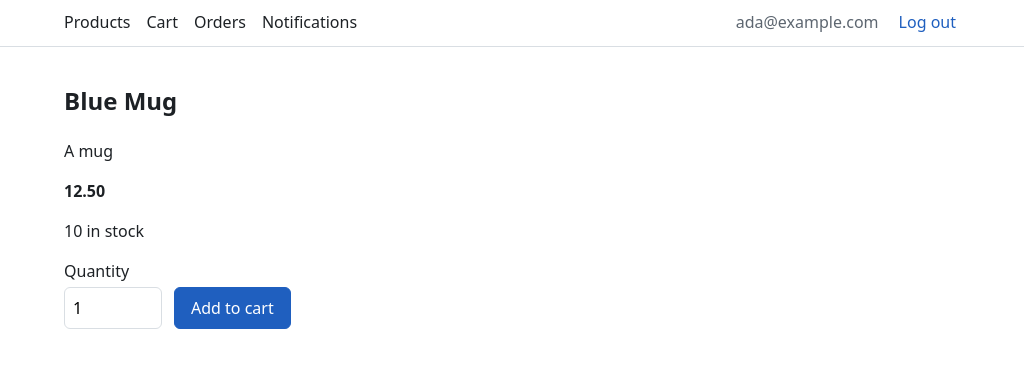
Test case: checkout › names the product that ran out of stock
Replace the text in the number field labelled "Quantity" with "2" at (113, 308), box [64,287,162,329]
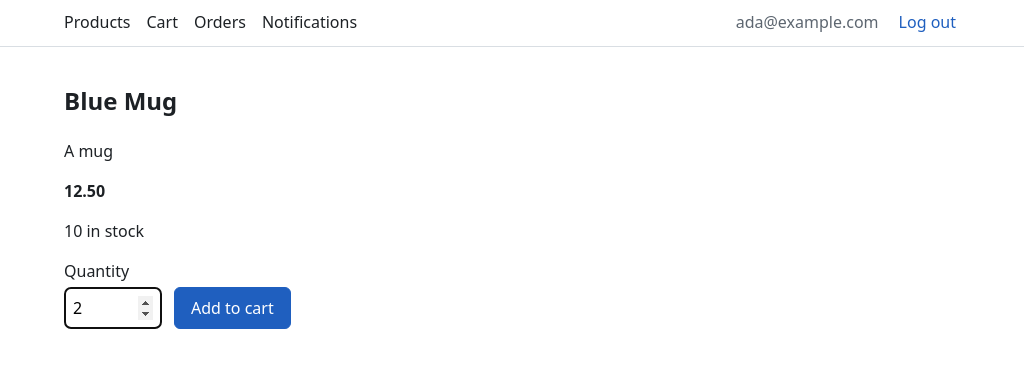
Click the button "Add to cart" at (232, 308), box [174,287,291,329]
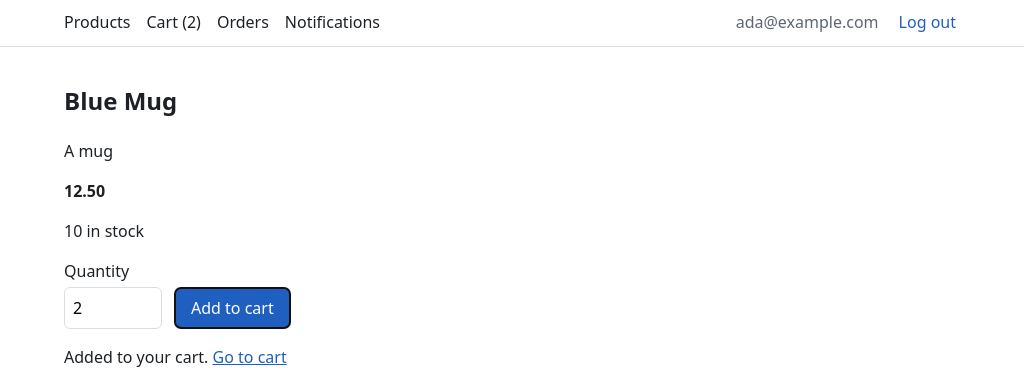
Click the link "Go to cart" at (250, 357), box [212,346,287,368]
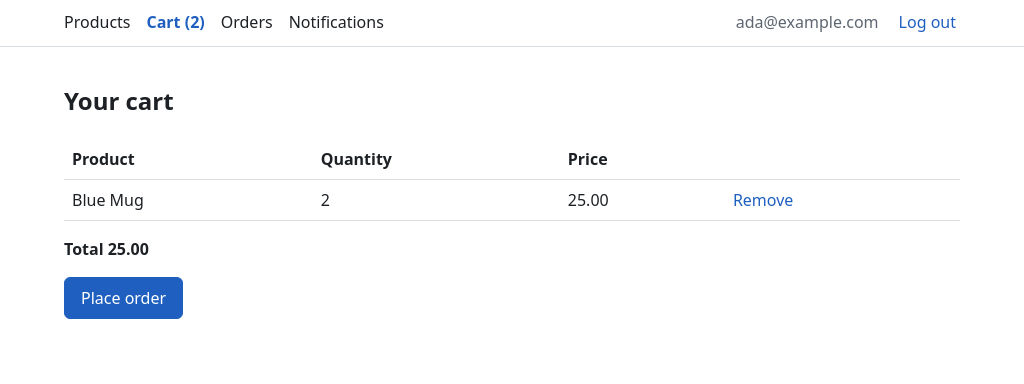
Click the button "Place order" at (124, 298), box [64,277,183,319]
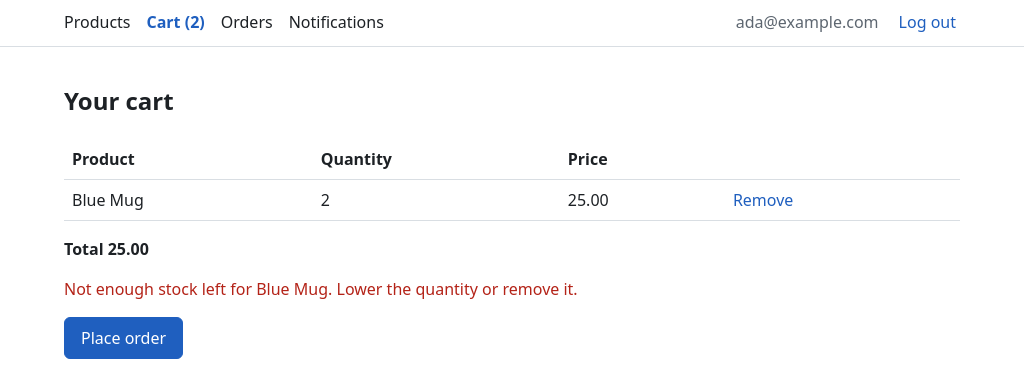
expect the message shows "Not enough stock left for Blue Mug": met, box [64,278,578,300]
